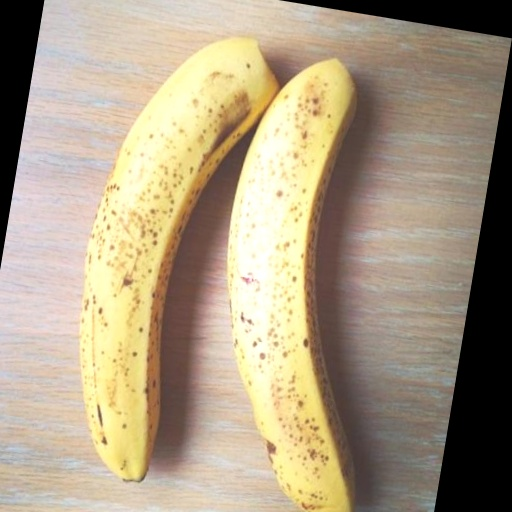fruit: (79, 38, 277, 480), (227, 60, 355, 512)
